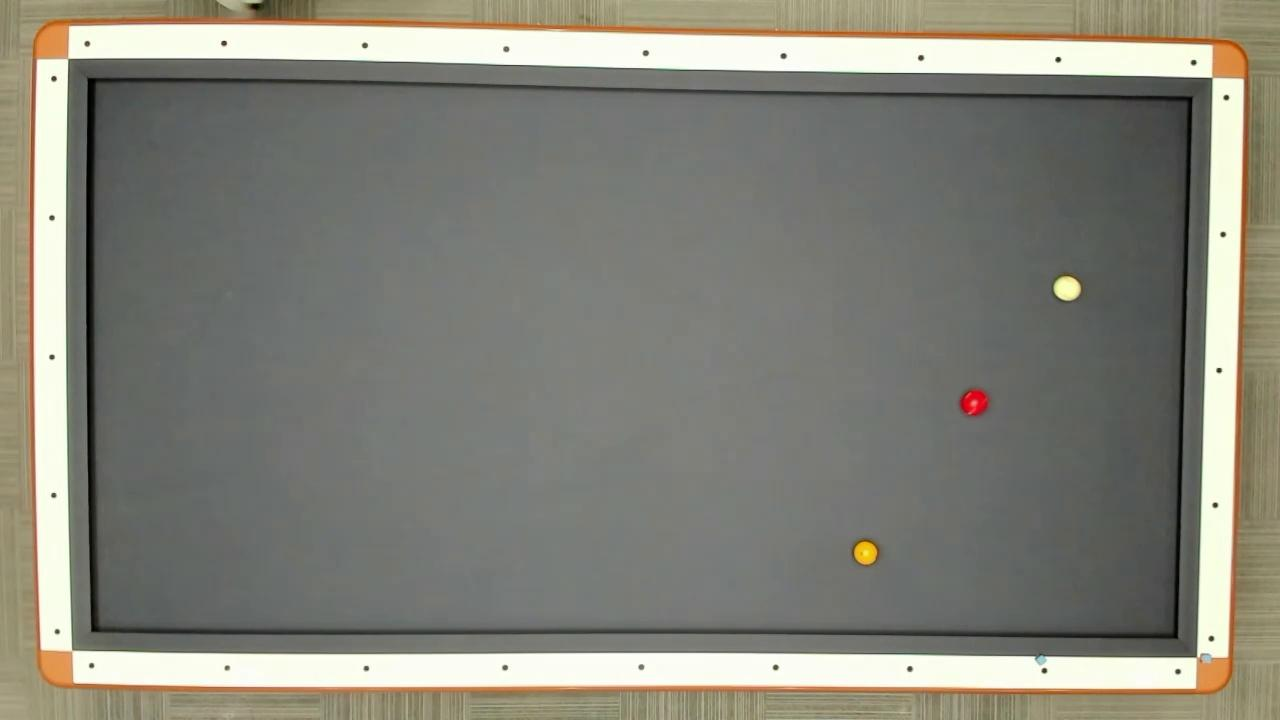Red: (960, 388, 990, 420)
White: (1052, 274, 1082, 303)
Yellow: (851, 538, 880, 569)
